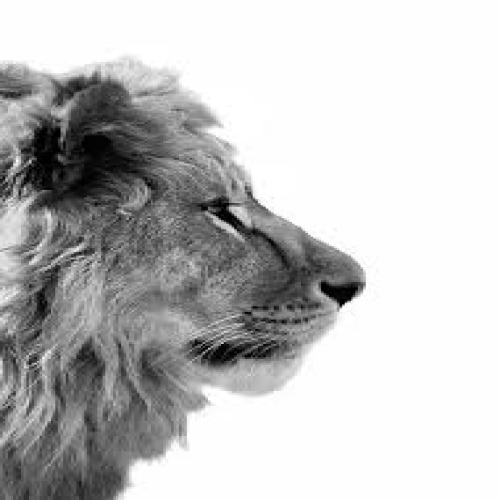lion-endangered: (13, 56, 360, 493)
